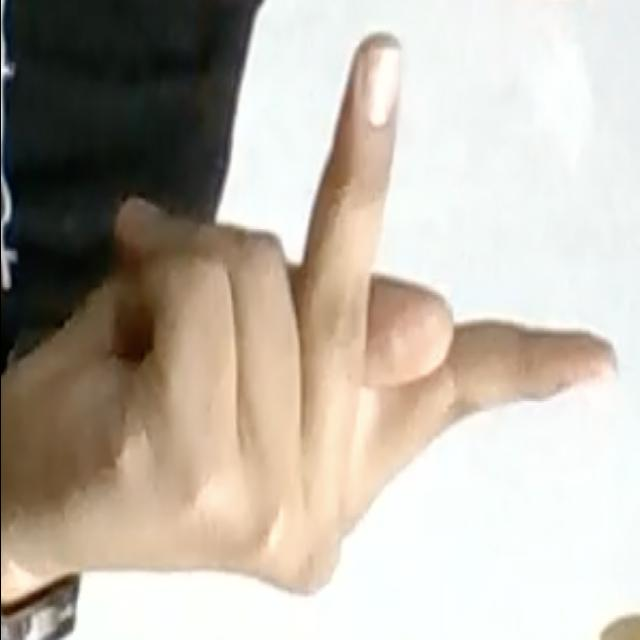P: (27, 29, 621, 602)
